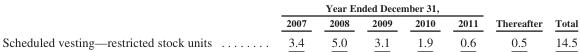table: (1, 1, 577, 48)
table column: (1, 1, 248, 48), (248, 1, 317, 48), (486, 1, 547, 48), (317, 1, 360, 48), (402, 1, 445, 48), (360, 1, 402, 48), (445, 1, 486, 48), (547, 1, 577, 48)
table column header: (1, 1, 577, 31)
table row: (1, 14, 577, 31), (1, 31, 577, 48), (1, 1, 577, 14)
table spanning cell: (248, 1, 486, 14), (486, 1, 547, 31), (547, 1, 577, 31)
